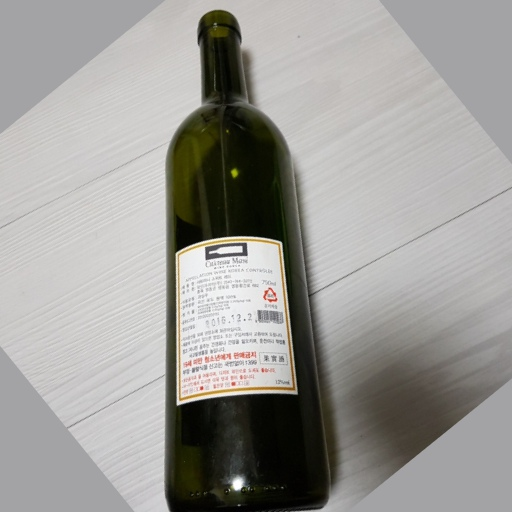Glass_2: (152, 4, 332, 512)
